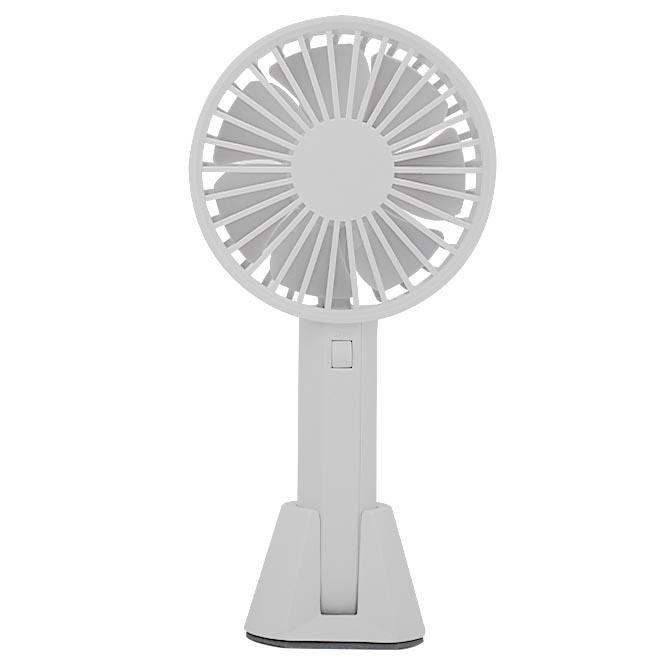fan: (137, 7, 528, 659)
